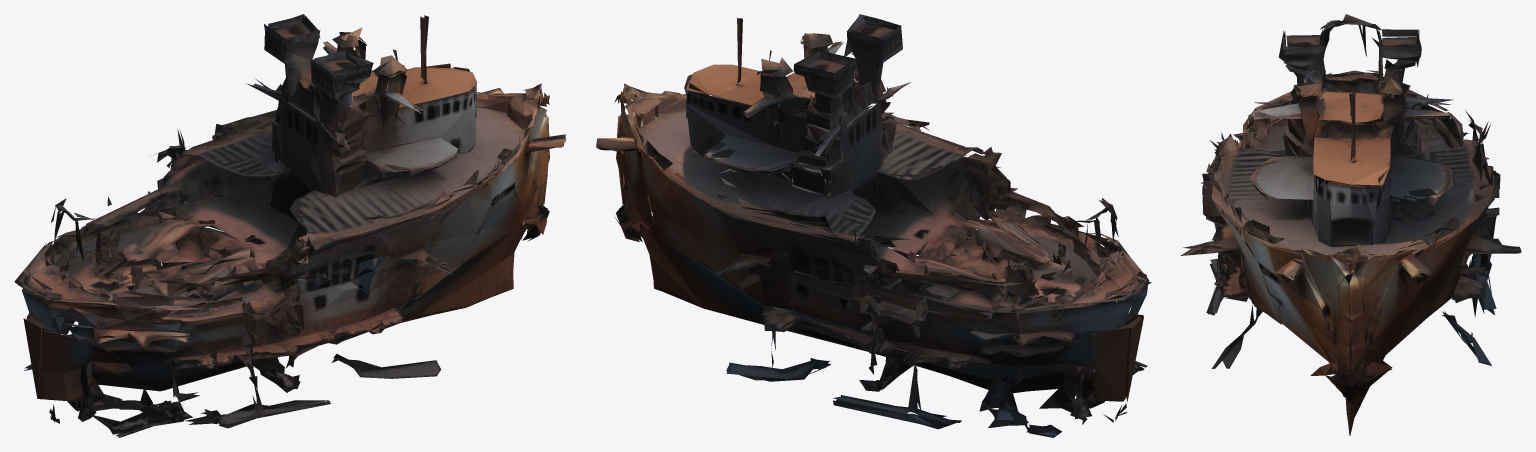
Rendered from decor_shipwreck_bow.fbx.
The picture shows the model from 3 angles, left to right: view 1: azimuth 30°, elevation 25°; view 2: azimuth 150°, elevation 25°; view 3: azimuth 270°, elevation 25°; orthographic projection. The views are drawn at different scales.
Parts seen in each view (by area): view 1: decor_shipwreck_bow; view 2: decor_shipwreck_bow; view 3: decor_shipwreck_bow.
Part boxes in pixels (x1=…): decor_shipwreck_bow: x1=14, y1=14, x2=566, y2=437; decor_shipwreck_bow: x1=596, y1=14, x2=1151, y2=437; decor_shipwreck_bow: x1=1181, y1=14, x2=1521, y2=435.
Size of the model in its own units: 4.84 by 2.76 by 2.64.
1 material, 1 textured.
